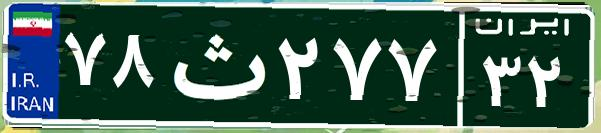2: (273, 28, 330, 110), (525, 38, 570, 115)
3: (475, 38, 525, 113)
7: (385, 28, 445, 110), (330, 28, 385, 110), (57, 26, 110, 107)
8: (110, 28, 158, 105)
ث: (158, 15, 273, 115)
